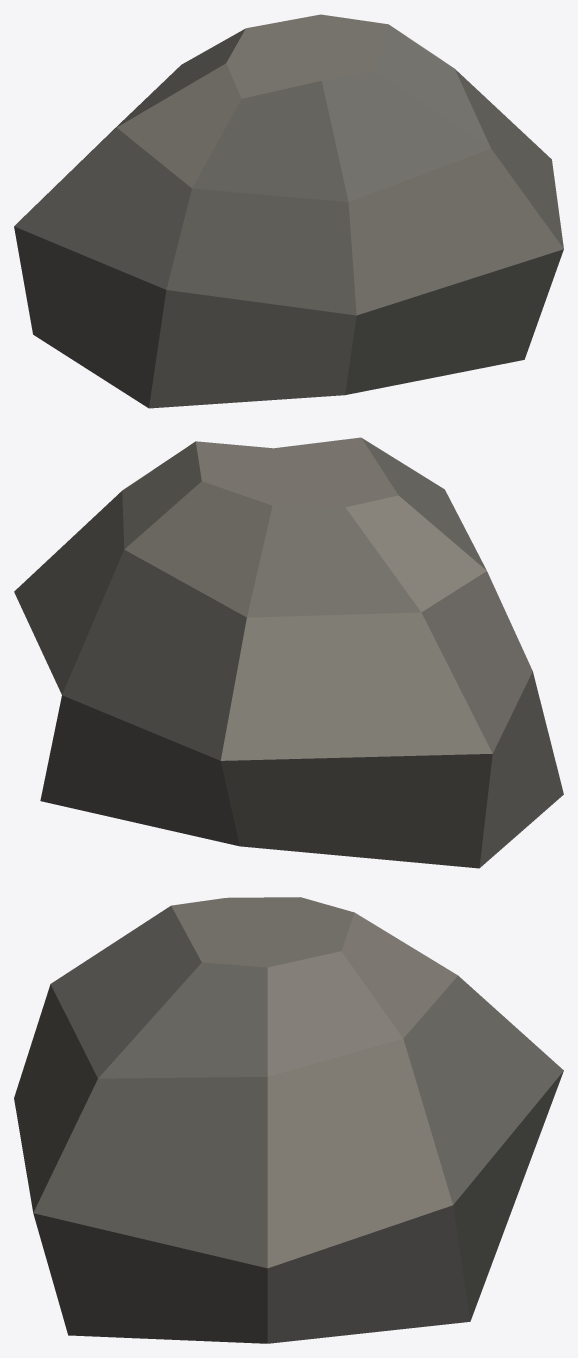
The model's file is rock.glb.
The picture shows the model from 3 angles, top to bottom: view 1: azimuth 30°, elevation 25°; view 2: azimuth 150°, elevation 25°; view 3: azimuth 270°, elevation 25°; orthographic projection. The views are drawn at different scales.
Parts seen in each view (by area): view 1: rock; view 2: rock; view 3: rock.
Boxes of the visible parts, <box> form: rock: <box>14,14,563,408</box>; rock: <box>14,437,563,868</box>; rock: <box>14,897,563,1343</box>.
Bounding box in the file's own units: 2.62 × 1.48 × 2.18.
1 material, 1 textured.
